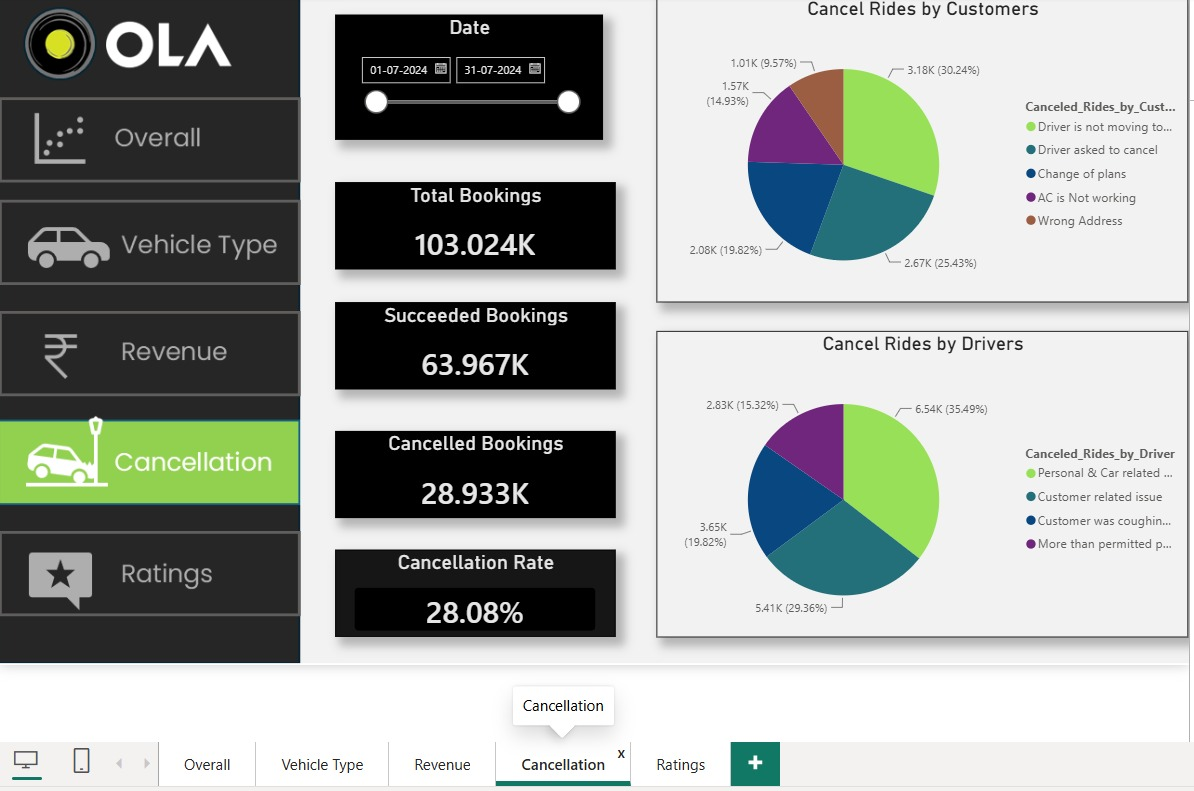

This screenshot's page, from the dashboard's own definition file:
{"tool":"powerbi","page":{"name":"Cancellation","canvas":[1280,720],"ordinal":3},"visuals":[{"type":"actionButton","box":[0,219.6,324.5,91.7],"z":0},{"type":"actionButton","box":[0,339,324.5,91.7],"z":1000},{"type":"actionButton","box":[0,575.5,324.5,91.7],"z":2000},{"type":"actionButton","box":[0,108.6,324.5,91.7],"z":3000},{"type":"pieChart","title":"Cancel Rides by Customers","fields":{"Category":["July.Canceled_Rides_by_Customer"],"Y":["CountNonNull(July.Canceled_Rides_by_Customer)"]},"box":[707.8,0,572.2,329.3],"z":3001},{"type":"pieChart","title":"Cancel Rides by Drivers","fields":{"Category":["July.Canceled_Rides_by_Driver"],"Y":["CountNonNull(July.Canceled_Rides_by_Driver)"]},"box":[707.9,360.1,572.2,329.3],"z":3002},{"type":"slicer","title":"Date","fields":{"Values":["July.Date"]},"box":[361.1,20.4,288.2,134.5],"z":3003},{"type":"cardVisual","title":"Total Bookings","fields":{"Data":["CountNonNull(July.Booking_ID)"]},"box":[361.1,200.9,301.6,93.9],"z":3004},{"type":"cardVisual","title":"Succeeded Bookings","fields":{"Data":["CountNonNull(July.Booking_ID)"]},"box":[361.1,329.9,301.6,93.9],"z":3005},{"type":"cardVisual","title":"Cancelled Bookings","fields":{"Data":["CountNonNull(July.Booking_ID)"]},"box":[361.1,468.4,301.6,93.9],"z":3006},{"type":"cardVisual","title":"Cancellation Rate","fields":{"Data":["July.CanceledPercentage"]},"box":[361.1,596,301.6,93.9],"z":3007}]}

Visuals, with their boxes in screenshot pixels (x1, y1, x2, y2):
actionButton: <box>3,199,302,283</box>
actionButton: <box>3,309,302,393</box>
actionButton: <box>3,526,302,611</box>
actionButton: <box>3,97,302,181</box>
"Cancel Rides by Customers" pieChart: <box>654,0,1181,300</box>
"Cancel Rides by Drivers" pieChart: <box>654,328,1181,631</box>
"Date" slicer: <box>335,16,600,139</box>
"Total Bookings" cardVisual: <box>335,182,613,268</box>
"Succeeded Bookings" cardVisual: <box>335,300,613,387</box>
"Cancelled Bookings" cardVisual: <box>335,428,613,514</box>
"Cancellation Rate" cardVisual: <box>335,545,613,632</box>
